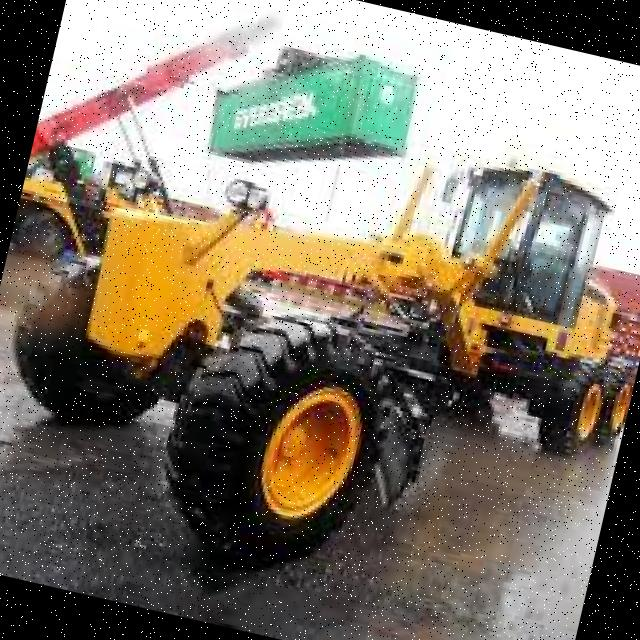Grader: (0, 49, 640, 629)
